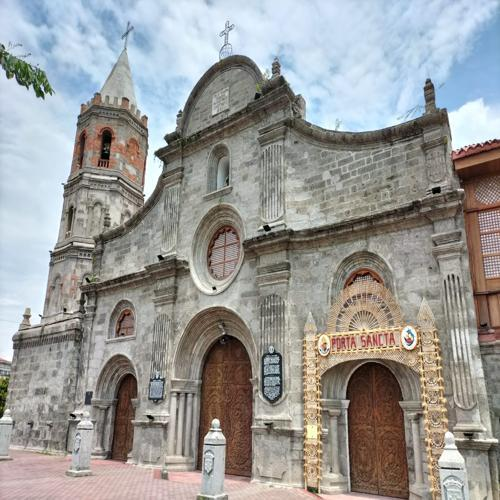Barasoain Church: (15, 20, 491, 500)
